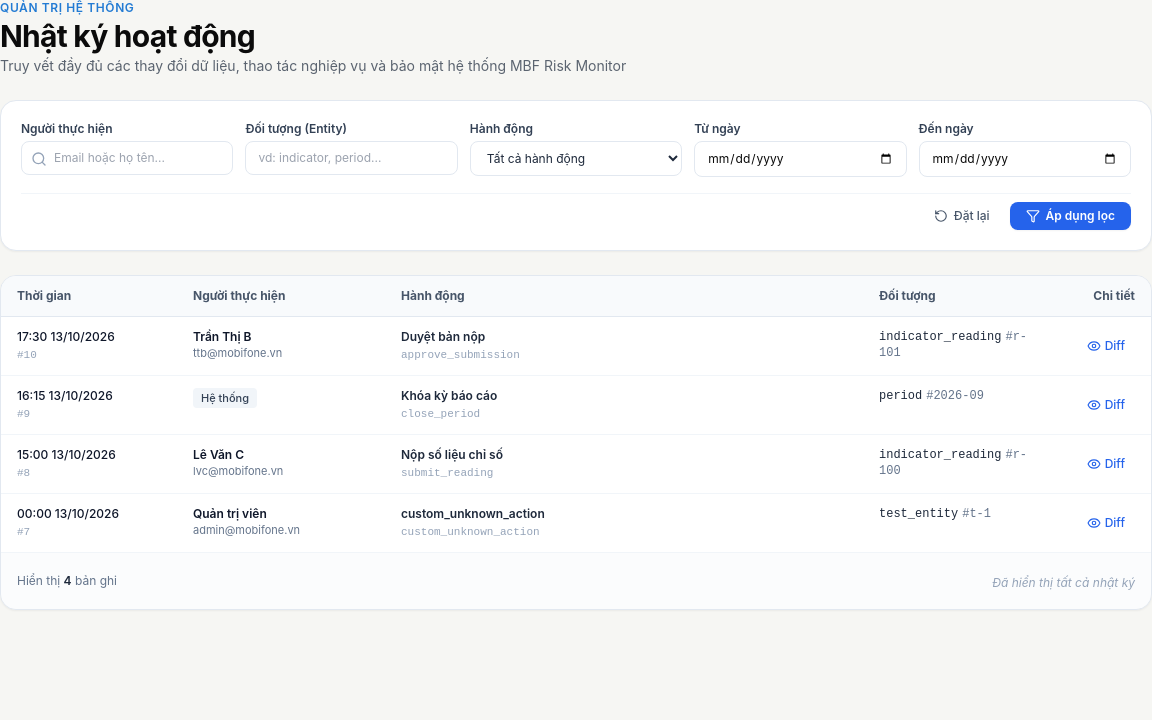
it: AuditView component › before hoặc after null hiện "—"
This screenshot has width=1152, height=720.
# Entry 8 has before: null (creation)
Click the row with test id "audit-row-8".
click(576, 464)  # box [1,434,1151,494]
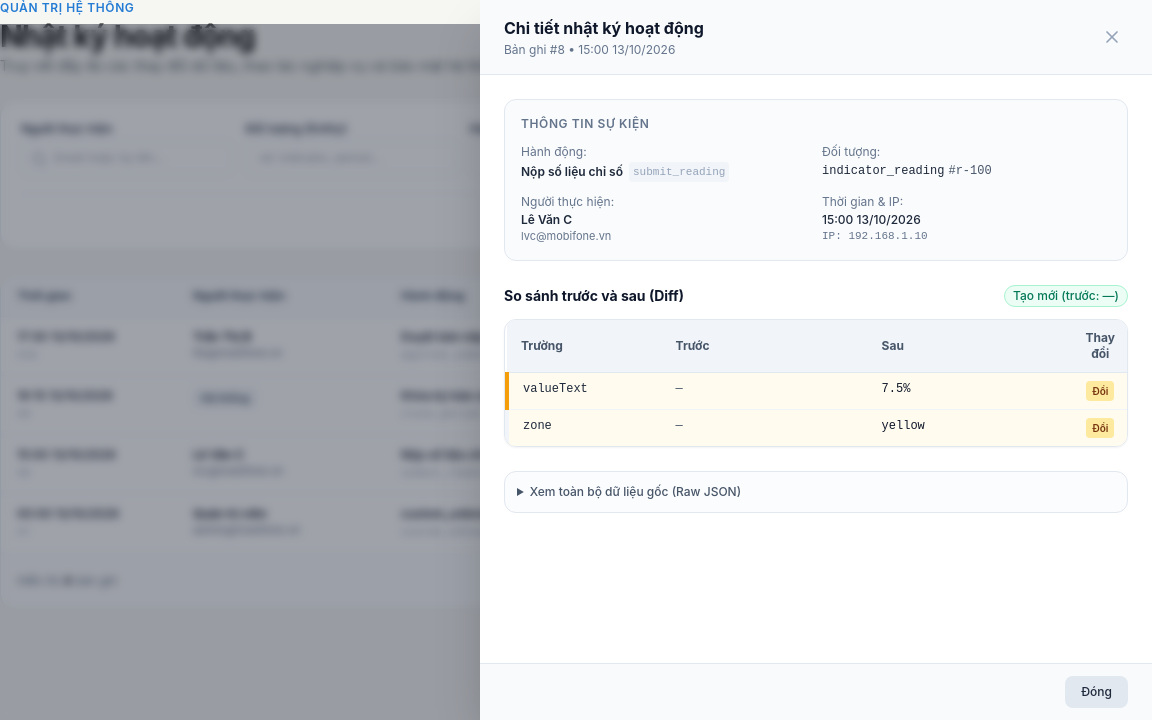
Expected: the cell with test id "diff-before-valueText" reads "—", [676,382,683,396]
Now the text "Tạo mới (trước: —)" is shown, box [1004,285,1128,307]
Now the cell with test id "diff-after-valueText" reads "7.5%", box [882,382,910,396]
# Close drawer via Escape key
Press Escape
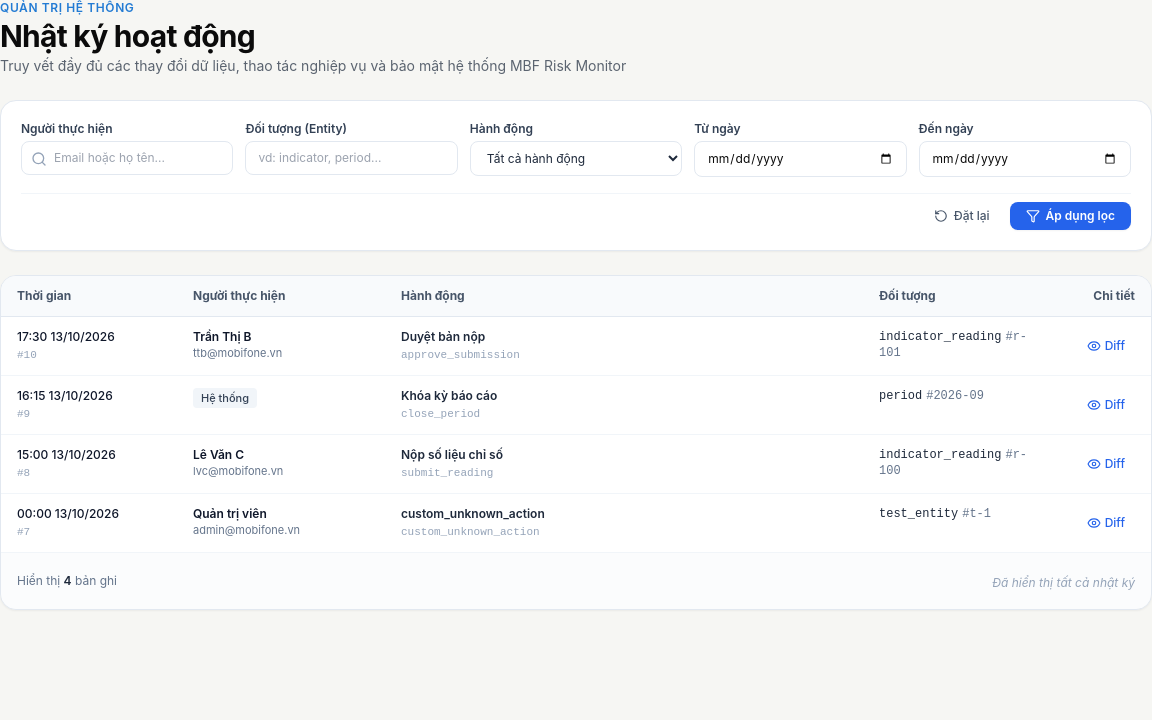
Now the dialog is gone
# Entry 7 has after: null (deletion)
Click the row with test id "audit-row-7".
click(576, 523)  # box [1,494,1151,552]
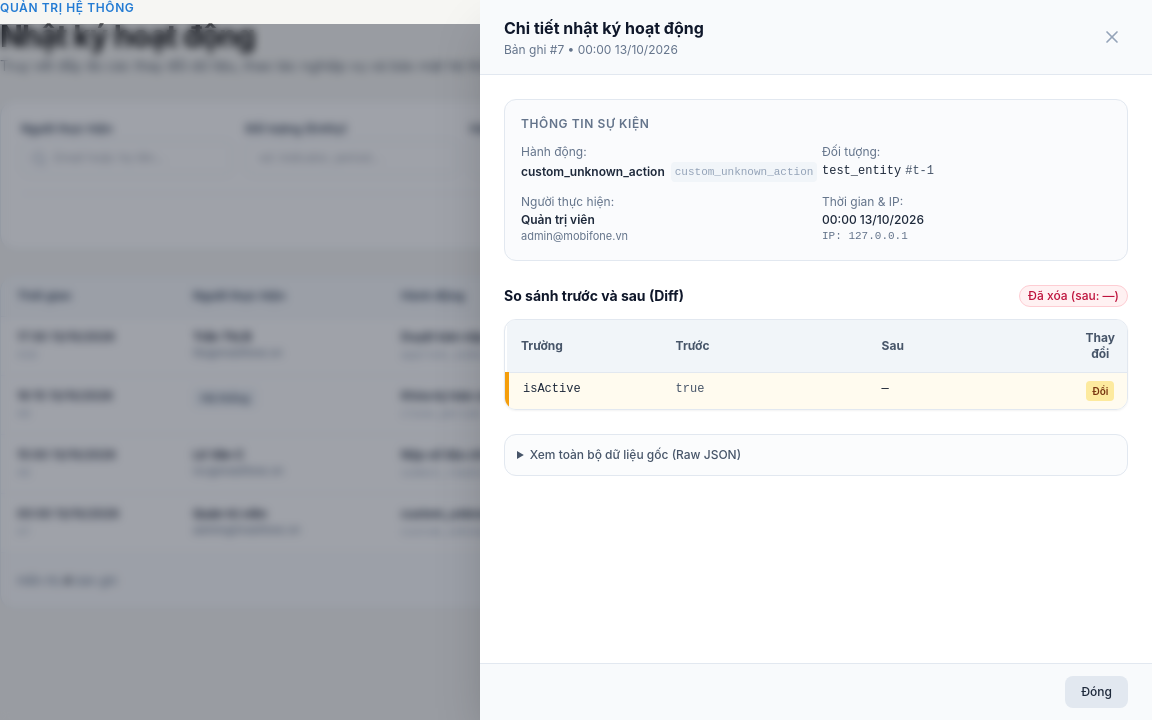
Now the text "Đã xóa (sau: —)" is shown, box [1019,285,1128,307]
Now the cell with test id "diff-before-isActive" reads "true", box [676,382,704,396]
Now the cell with test id "diff-after-isActive" reads "—", box [882,382,889,396]
